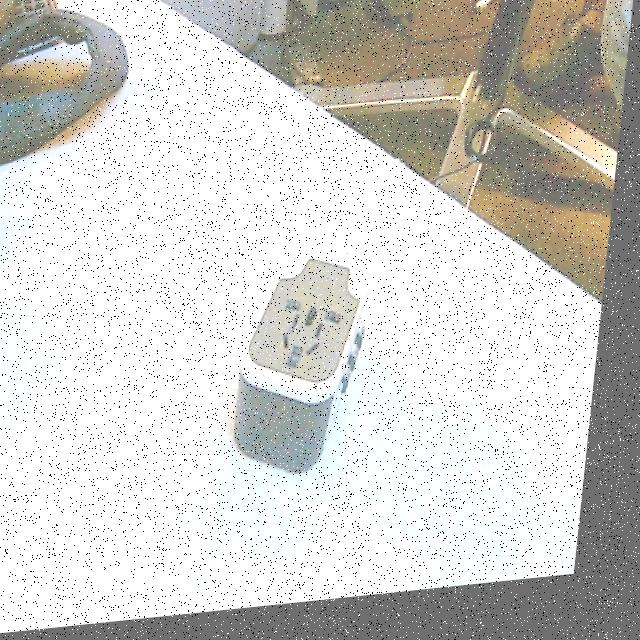adapter: (236, 253, 381, 485)
